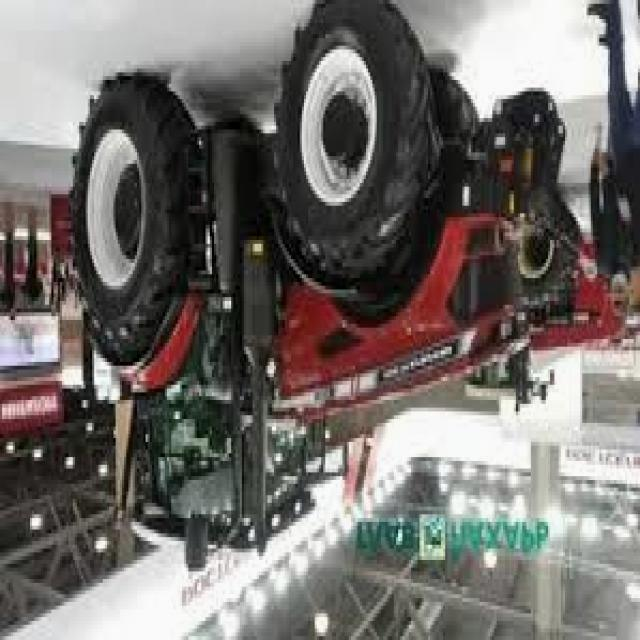Tratores - v5 YOLO V8L 2024-11-13: (68, 0, 502, 564)
